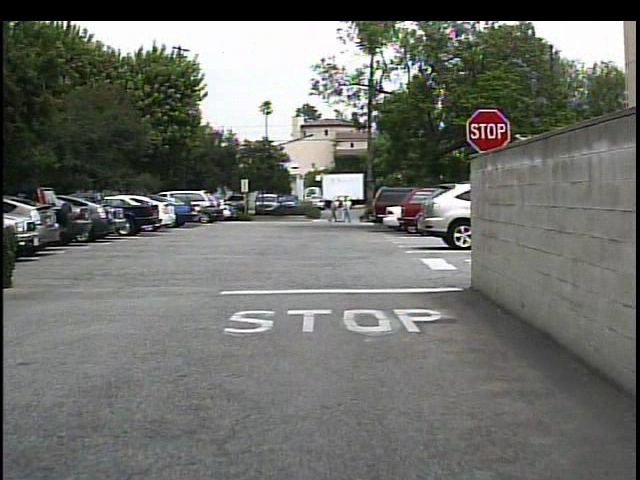person: (338, 198, 353, 226), (324, 199, 338, 225)
